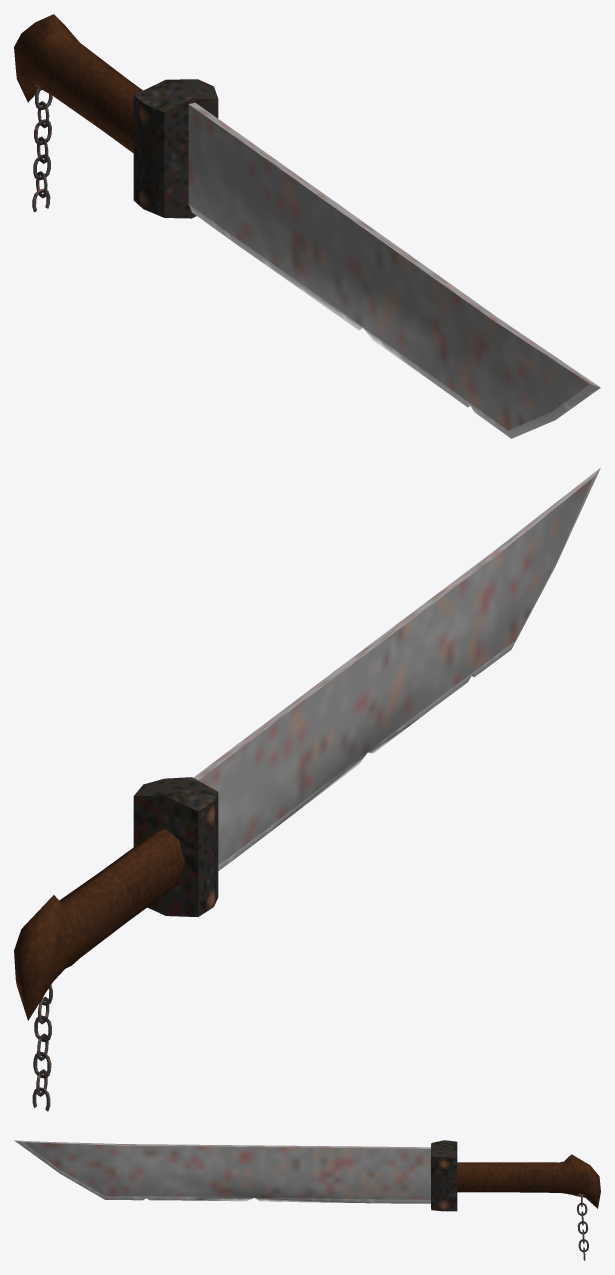
The model's file is Facao_Apocalypse.fbx.
The picture shows the model from 3 angles, top to bottom: view 1: azimuth 30°, elevation 25°; view 2: azimuth 150°, elevation 25°; view 3: azimuth 270°, elevation 25°; orthographic projection. The views are drawn at different scales.
Visible parts, largest first — view 1: Facao, Cabo, Punhadeira, Correntes; view 2: Facao, Cabo, Punhadeira, Correntes; view 3: Facao, Cabo, Punhadeira, Correntes.
Boxes of the visible parts, box(x1,y1,x2,y2) form: Facao: box(188, 102, 600, 438); Cabo: box(14, 14, 142, 153); Punhadeira: box(133, 79, 218, 218); Correntes: box(32, 87, 52, 212); Facao: box(193, 468, 600, 870); Cabo: box(14, 828, 185, 1020); Punhadeira: box(133, 777, 218, 916); Correntes: box(32, 984, 52, 1111); Facao: box(14, 1140, 430, 1203); Cabo: box(457, 1154, 600, 1208); Punhadeira: box(431, 1140, 457, 1211); Correntes: box(577, 1194, 588, 1260).
Bounding box in the file's own units: 27.26 × 85.96 × 386.
